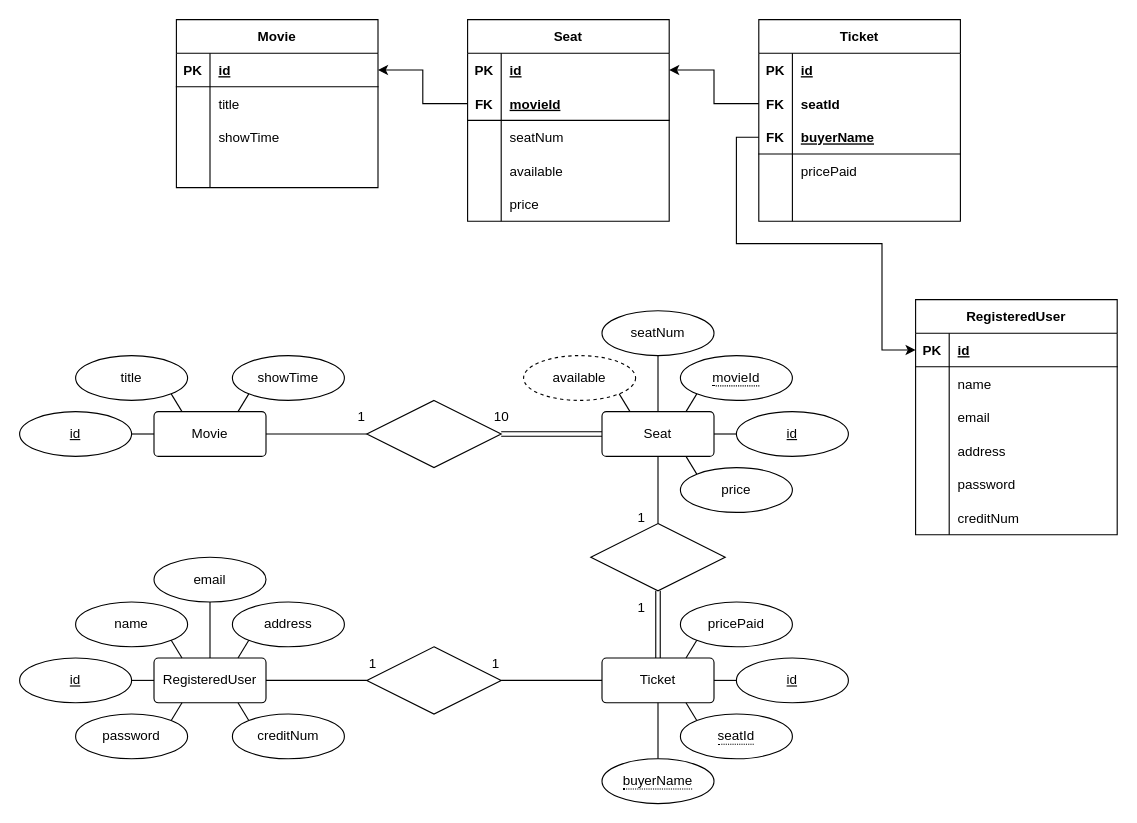
Some shapes in this 1137 by 823 pixel diagram are drawn without their labels. The box of each missing label's shape, as (x1, y1, x2, y2) in pixels:
Has: (366, 399, 501, 468)
Purchased: (366, 646, 501, 714)
Reserved: (590, 522, 725, 591)
